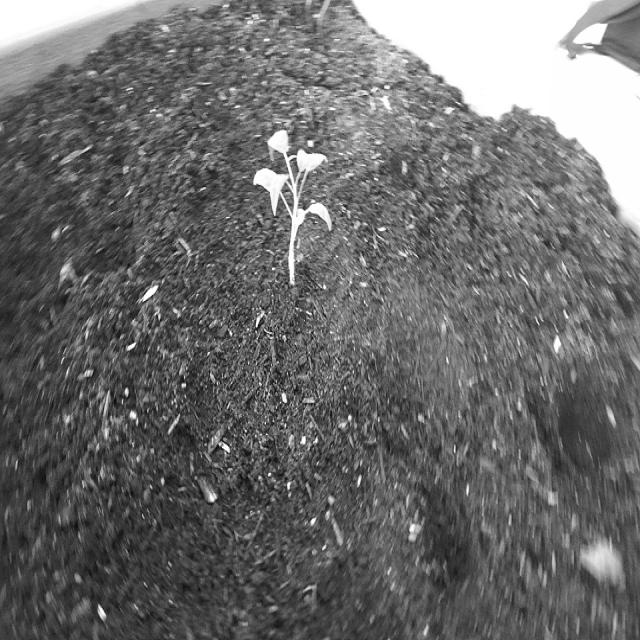Healthy: (249, 99, 345, 302)
